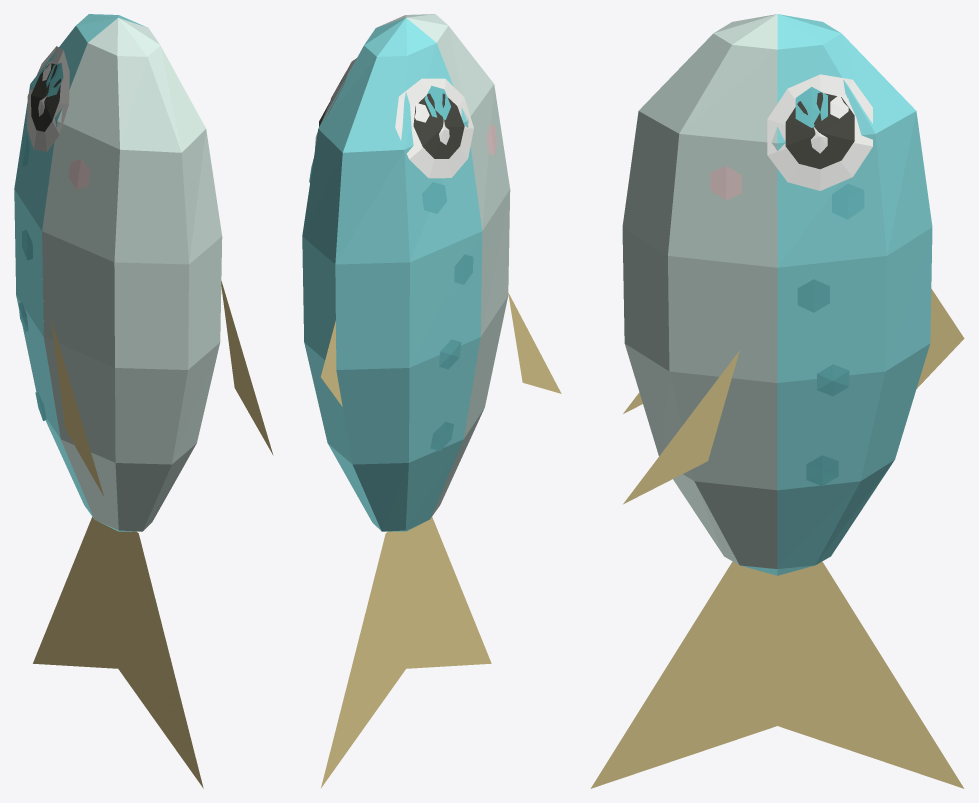
The model's file is fish_small.glb.
3 renders of one model, left to right at view 1: azimuth 30°, elevation 25°; view 2: azimuth 150°, elevation 25°; view 3: azimuth 270°, elevation 25°, orthographic. The views are drawn at different scales.
Parts seen in each view (by area): view 1: fishS_body; view 2: fishS_body; view 3: fishS_body.
Boxes of the visible parts, x1=… form: fishS_body: x1=14, y1=14, x2=273, y2=788; fishS_body: x1=302, y1=14, x2=561, y2=787; fishS_body: x1=590, y1=14, x2=964, y2=788.
Size of the model in its own units: 0.02 by 0.08 by 0.035.
